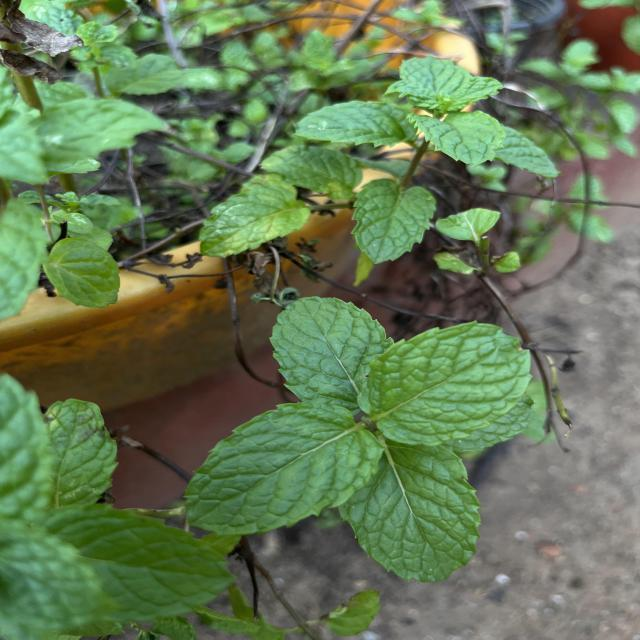Mentha spicata: (182, 399, 388, 538), (354, 318, 534, 448), (336, 442, 484, 584), (266, 294, 396, 402), (349, 178, 439, 266)
